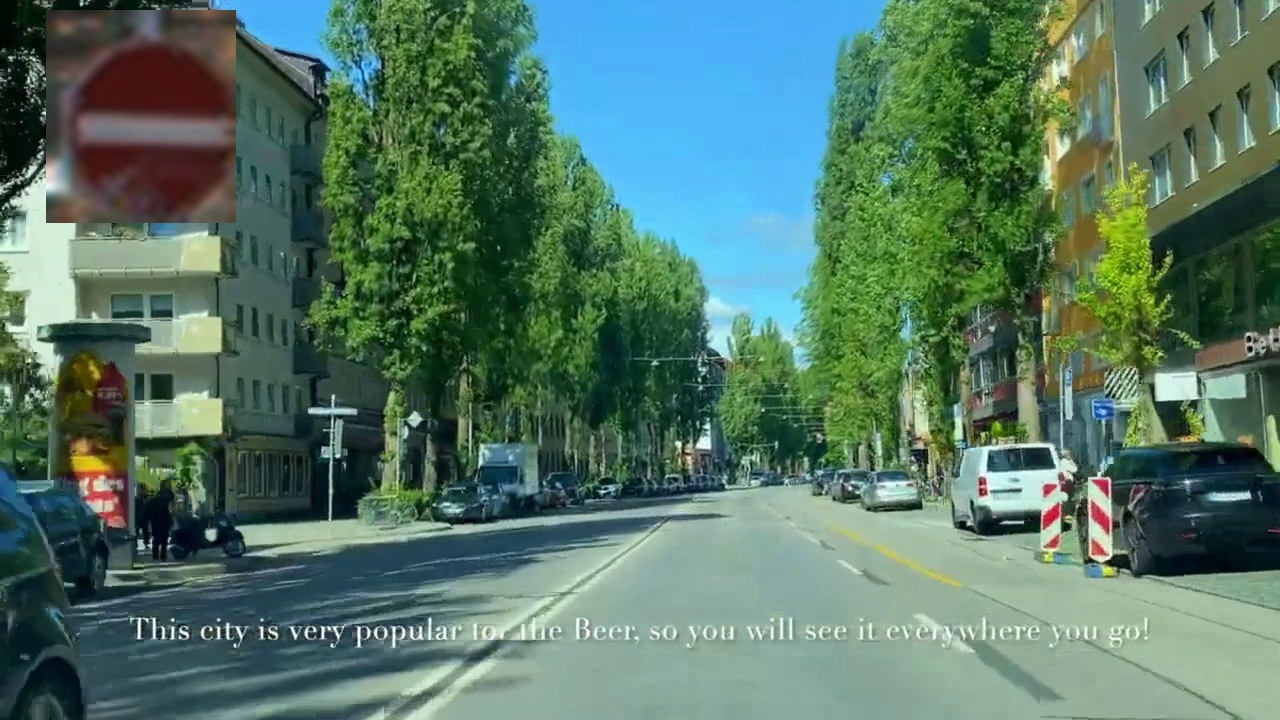No entry: (46, 10, 236, 223)
